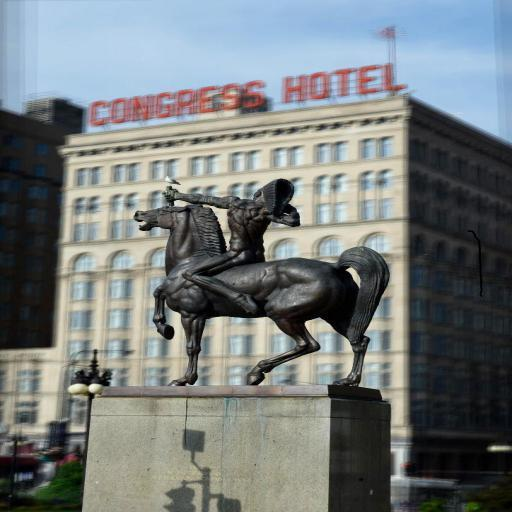horse: (132, 200, 390, 386)
